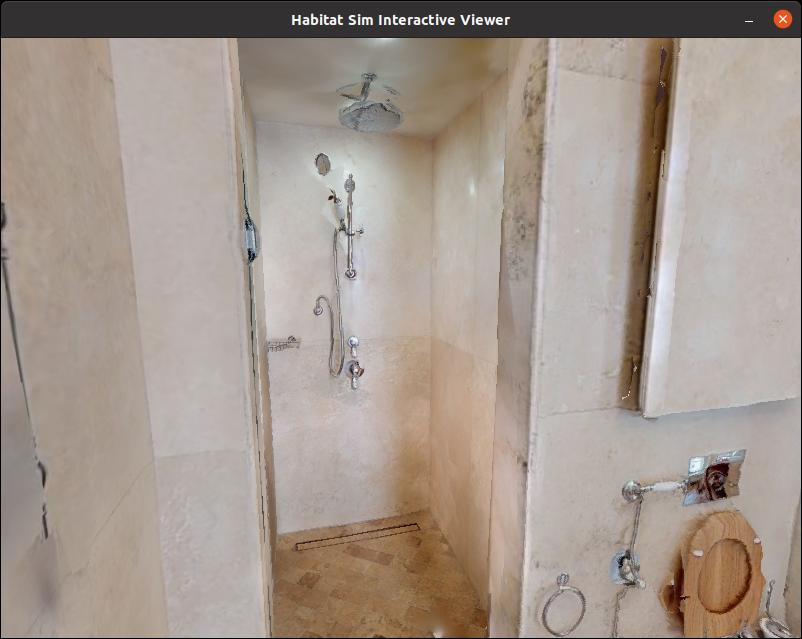shower: (267, 39, 492, 639)
